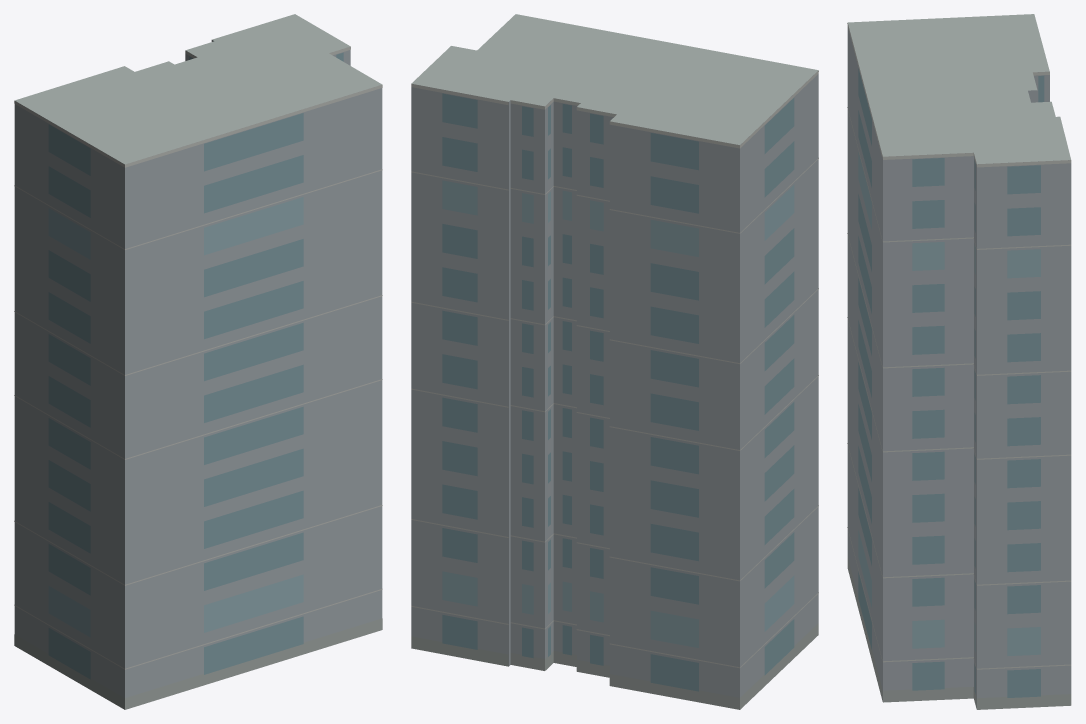
The model's file is survey-upis-32741215.glb.
The picture shows the model from 3 angles, left to right: view 1: azimuth 30°, elevation 25°; view 2: azimuth 150°, elevation 25°; view 3: azimuth 270°, elevation 25°; orthographic projection. The views are drawn at different scales.
Parts seen in each view (by area): view 1: survey-upis-32741215.tmp; view 2: survey-upis-32741215.tmp; view 3: survey-upis-32741215.tmp.
Boxes of the visible parts, bbox=[...] form: survey-upis-32741215.tmp: bbox=[14, 14, 382, 709]; survey-upis-32741215.tmp: bbox=[411, 14, 818, 709]; survey-upis-32741215.tmp: bbox=[847, 14, 1071, 709].
Bounding box in the file's own units: 23.93 × 40.5 × 15.07.
